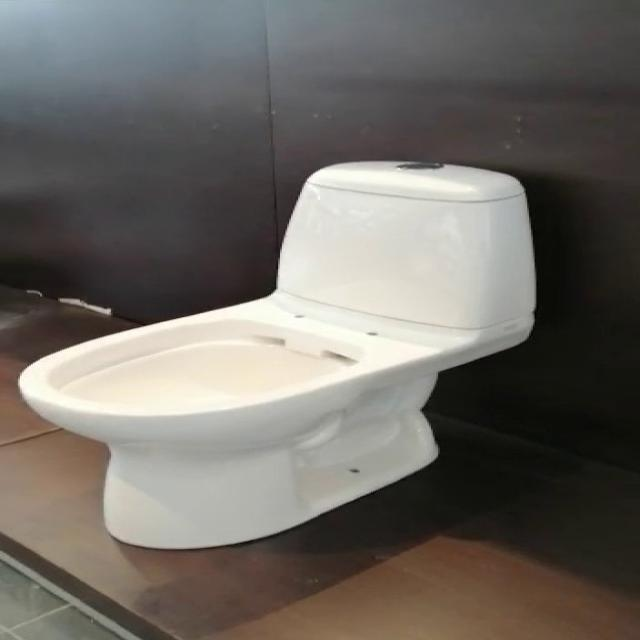toilet: (16, 158, 536, 550)
